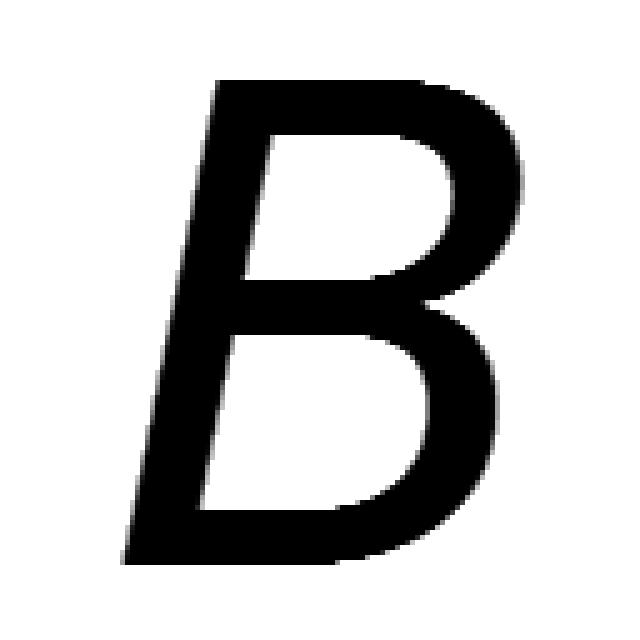B: (120, 80, 525, 570)
